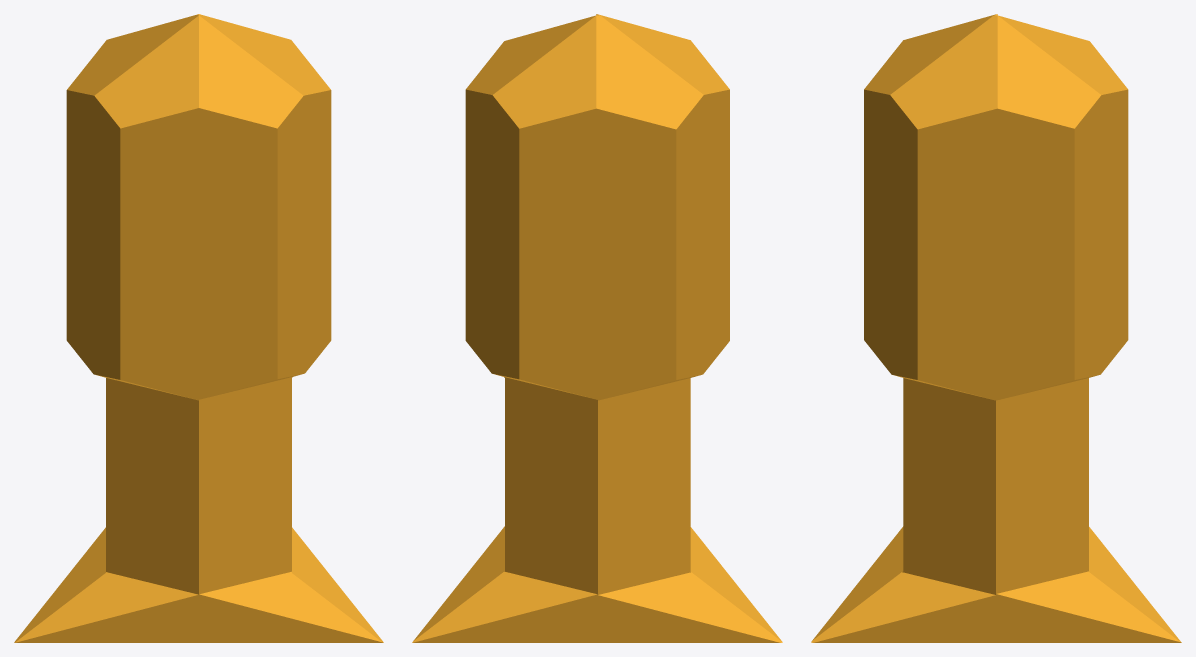
File: Fate Game Piece V4 Hunyadi.glb
3 views of the same model, side by side, from view 1: azimuth 30°, elevation 25°; view 2: azimuth 150°, elevation 25°; view 3: azimuth 270°, elevation 25° (orthographic).
Visible parts, largest first — view 1: Solid1; view 2: Solid1; view 3: Solid1.
Part boxes in pixels (<box>): Solid1: <box>14,14,383,642</box>; Solid1: <box>412,14,782,642</box>; Solid1: <box>811,14,1181,642</box>.
Bounding box in the file's own units: 0.019 × 0.0381 × 0.022.
